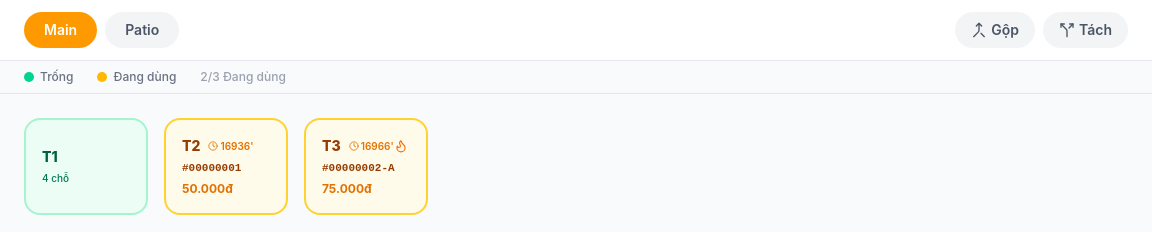
it: OrderClient › renders free and occupied tables and switches areas
This screenshot has width=1152, height=232.
Expected: the button "T1 4 chỗ" is shown, x1=24 y1=118 x2=148 y2=214
Expected: the button "T2 16936' #00000001 50.000đ" is shown, x1=164 y1=118 x2=288 y2=214
Click the button "Patio". click: (142, 30)
box: x1=105 y1=12 x2=179 y2=48
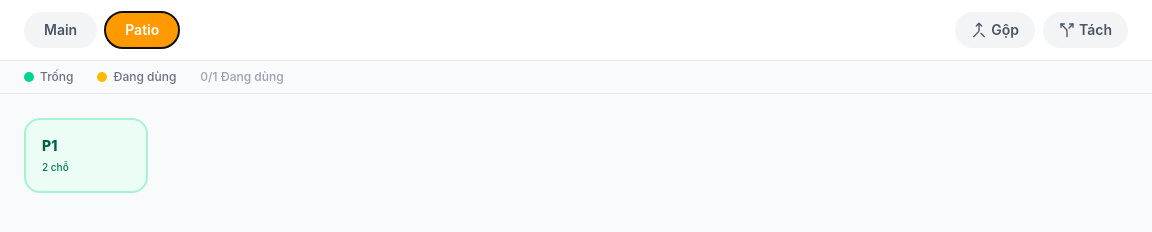
Result: the button "P1 2 chỗ" is shown at x1=24 y1=118 x2=148 y2=193
